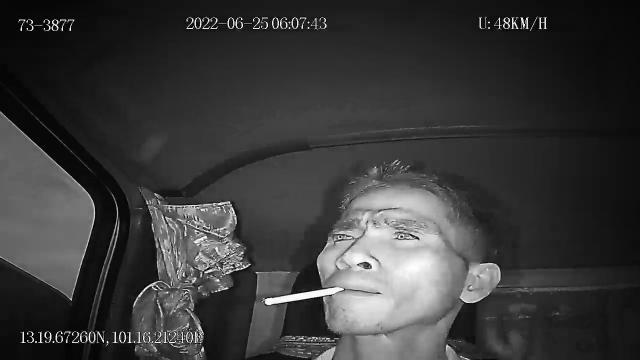SafeDriving: (379, 220, 426, 246), (324, 223, 359, 246)
Smoking: (262, 286, 348, 306)
